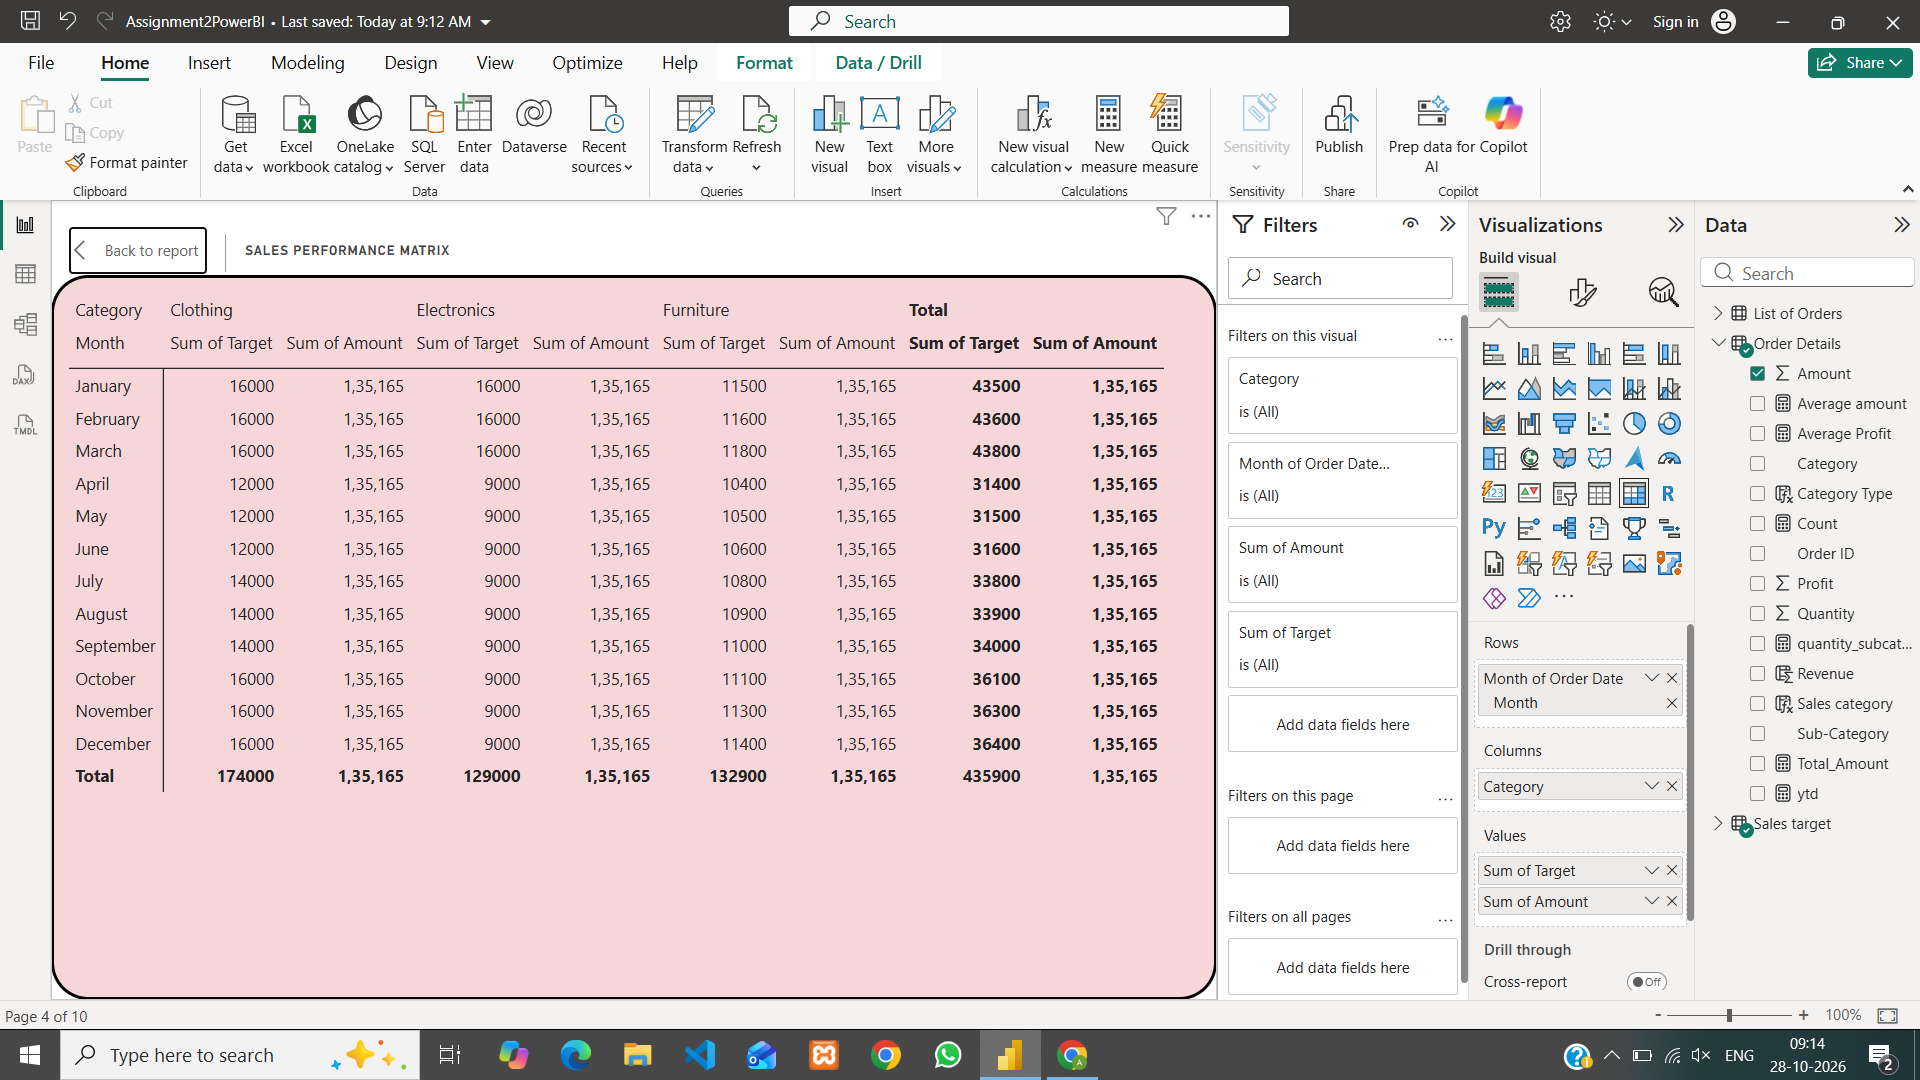

Layout of this report page (visuals, bound fields, positions):
{"tool":"powerbi","page":{"name":"Matrix","canvas":[1920,1080],"ordinal":3},"visuals":[{"type":"pivotTable","title":"Sales Performance Matrix","fields":{"Columns":["Sales target.Category"],"Rows":["Sales target.Month of Order Date.Variation.Date Hierarchy.Month"],"Values":["Sum(Sales target.Target)","Sum(Order Details.Amount)"]},"box":[10.3,0,1265.9,650.4],"z":0}]}

Visuals, with their boxes on the page's 1920x1080 design canvas (x1, y1, x2, y2). These are canvas units, not pixel positions in the 1920x1080 screenshot, which may show the page scaled, cropped or inside an application window:
"Sales Performance Matrix" pivotTable: {"x1": 10, "y1": 0, "x2": 1276, "y2": 650}
